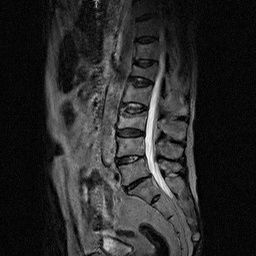L1,v2: (124, 62, 155, 81)
L1-L2,v5: (123, 73, 154, 92)
L2,v2: (121, 84, 152, 103)
L2-L3,v1: (118, 98, 149, 117)
L3,v2: (117, 111, 148, 130)
L3-L4,v2: (114, 124, 145, 143)
L4,v2: (114, 135, 145, 154)
L4-L5,v1: (113, 149, 144, 168)
L5,v2: (116, 162, 147, 181)
L5-S1,v3: (121, 174, 152, 193)
T12-L1,v5: (126, 54, 157, 73)
